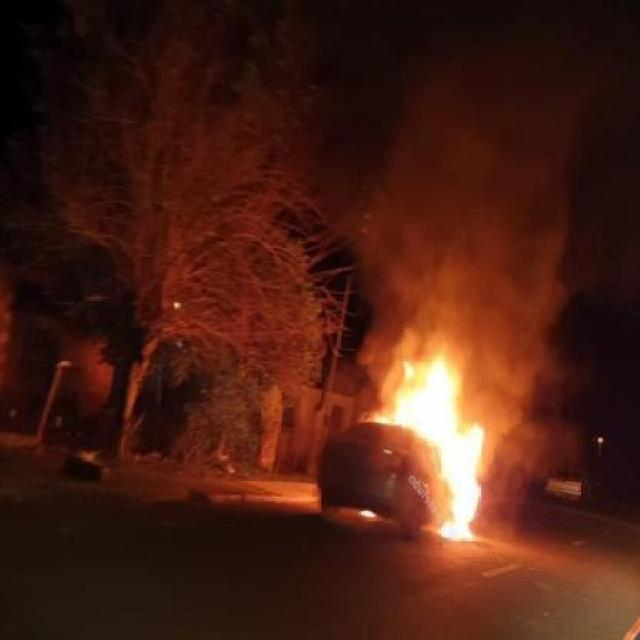Fire: (378, 290, 480, 562)
Smoke: (366, 22, 583, 416)
